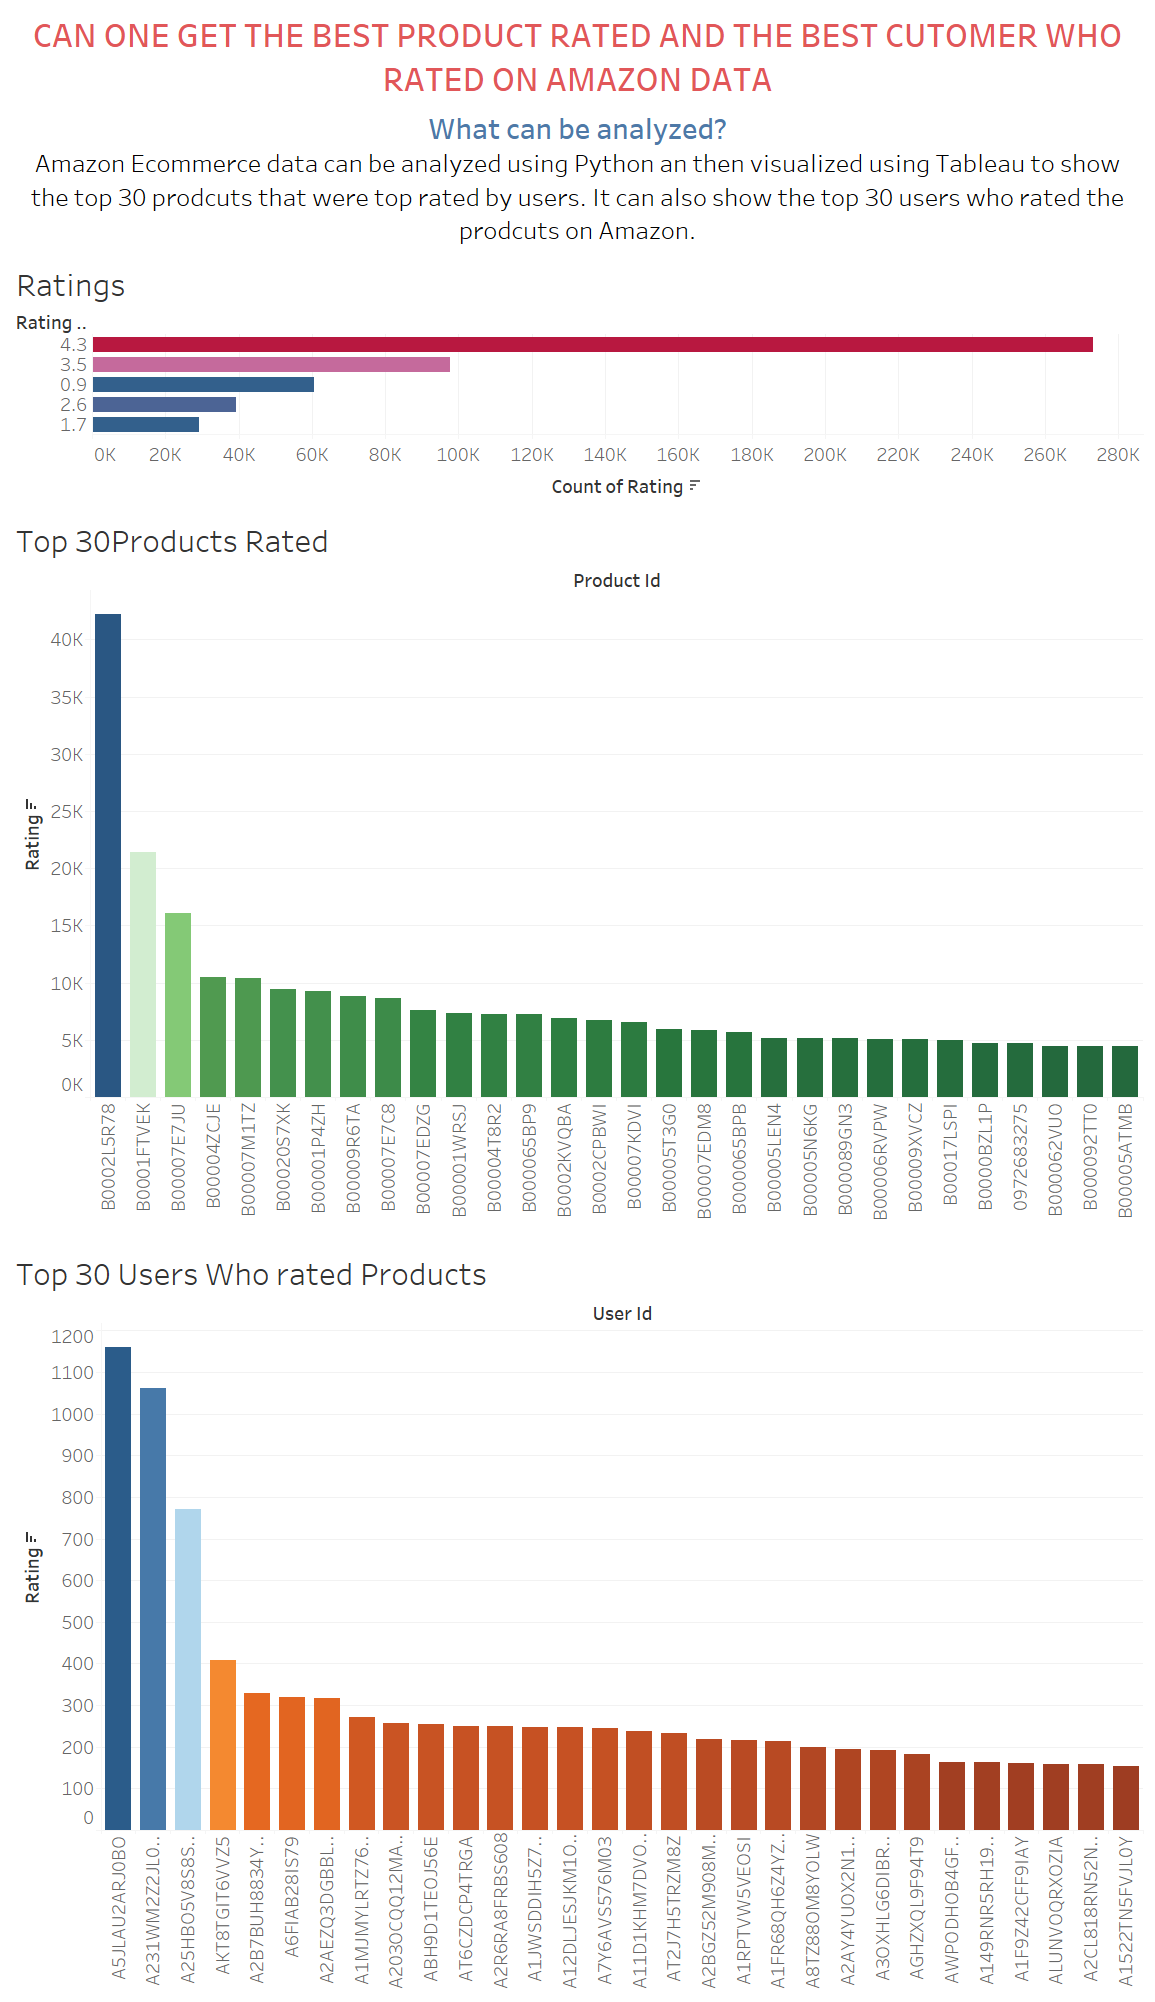

The dashboard page shown, as its layout file describes it:
{"tool":"tableau","page":{"name":"Dashboard 2","canvas":[1155,2002],"ordinal":0},"visuals":[{"type":"text","box":[8,8,1139,37]},{"type":"text","box":[8,45,1139,80]},{"type":"worksheet","title":"Ratings","mark":"Automatic","rows":["Rating (bin)"],"cols":["Rating"],"box":[8,125,1139,226]},{"type":"worksheet","title":"Top 30Products Rated","mark":"Automatic","rows":["Rating"],"cols":["productId"],"box":[8,351,1139,811.5]},{"type":"worksheet","title":"Top 30 Users Who rated Products","mark":"Automatic","rows":["Rating"],"cols":["userId"],"box":[8,1162.5,1139,831.5]}]}

Visuals, with their boxes in screenshot pixels (x1, y1, x2, y2), scaled from the page's 1155x2002 canvas onto the 1155x2002 screenshot:
text: bbox(8, 8, 1147, 45)
text: bbox(8, 45, 1147, 125)
"Ratings" worksheet: bbox(8, 125, 1147, 351)
"Top 30Products Rated" worksheet: bbox(8, 351, 1147, 1162)
"Top 30 Users Who rated Products" worksheet: bbox(8, 1162, 1147, 1994)
